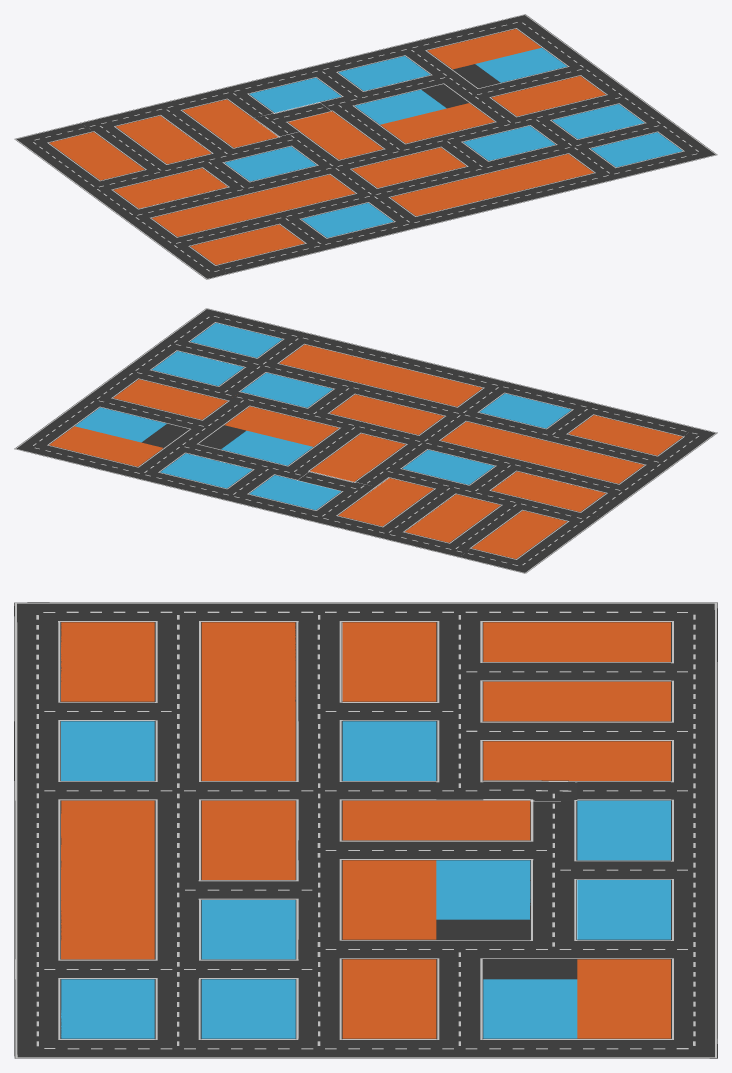
Rendered from drivingMap.glb.
3 views of the same model, one above another, from view 1: azimuth 30°, elevation 25°; view 2: azimuth 150°, elevation 25°; view 3: azimuth 270°, elevation 25° (orthographic). The views are drawn at different scales.
Visible parts, largest first — view 1: Grid; view 2: Grid; view 3: Grid.
Part boxes in pixels (x1,y1,x2,y2): Grid: (14,14,717,279); Grid: (14,308,717,573); Grid: (14,602,717,1058).
Bounding box in the file's own units: 2.3 × 0.00279 × 1.5.
